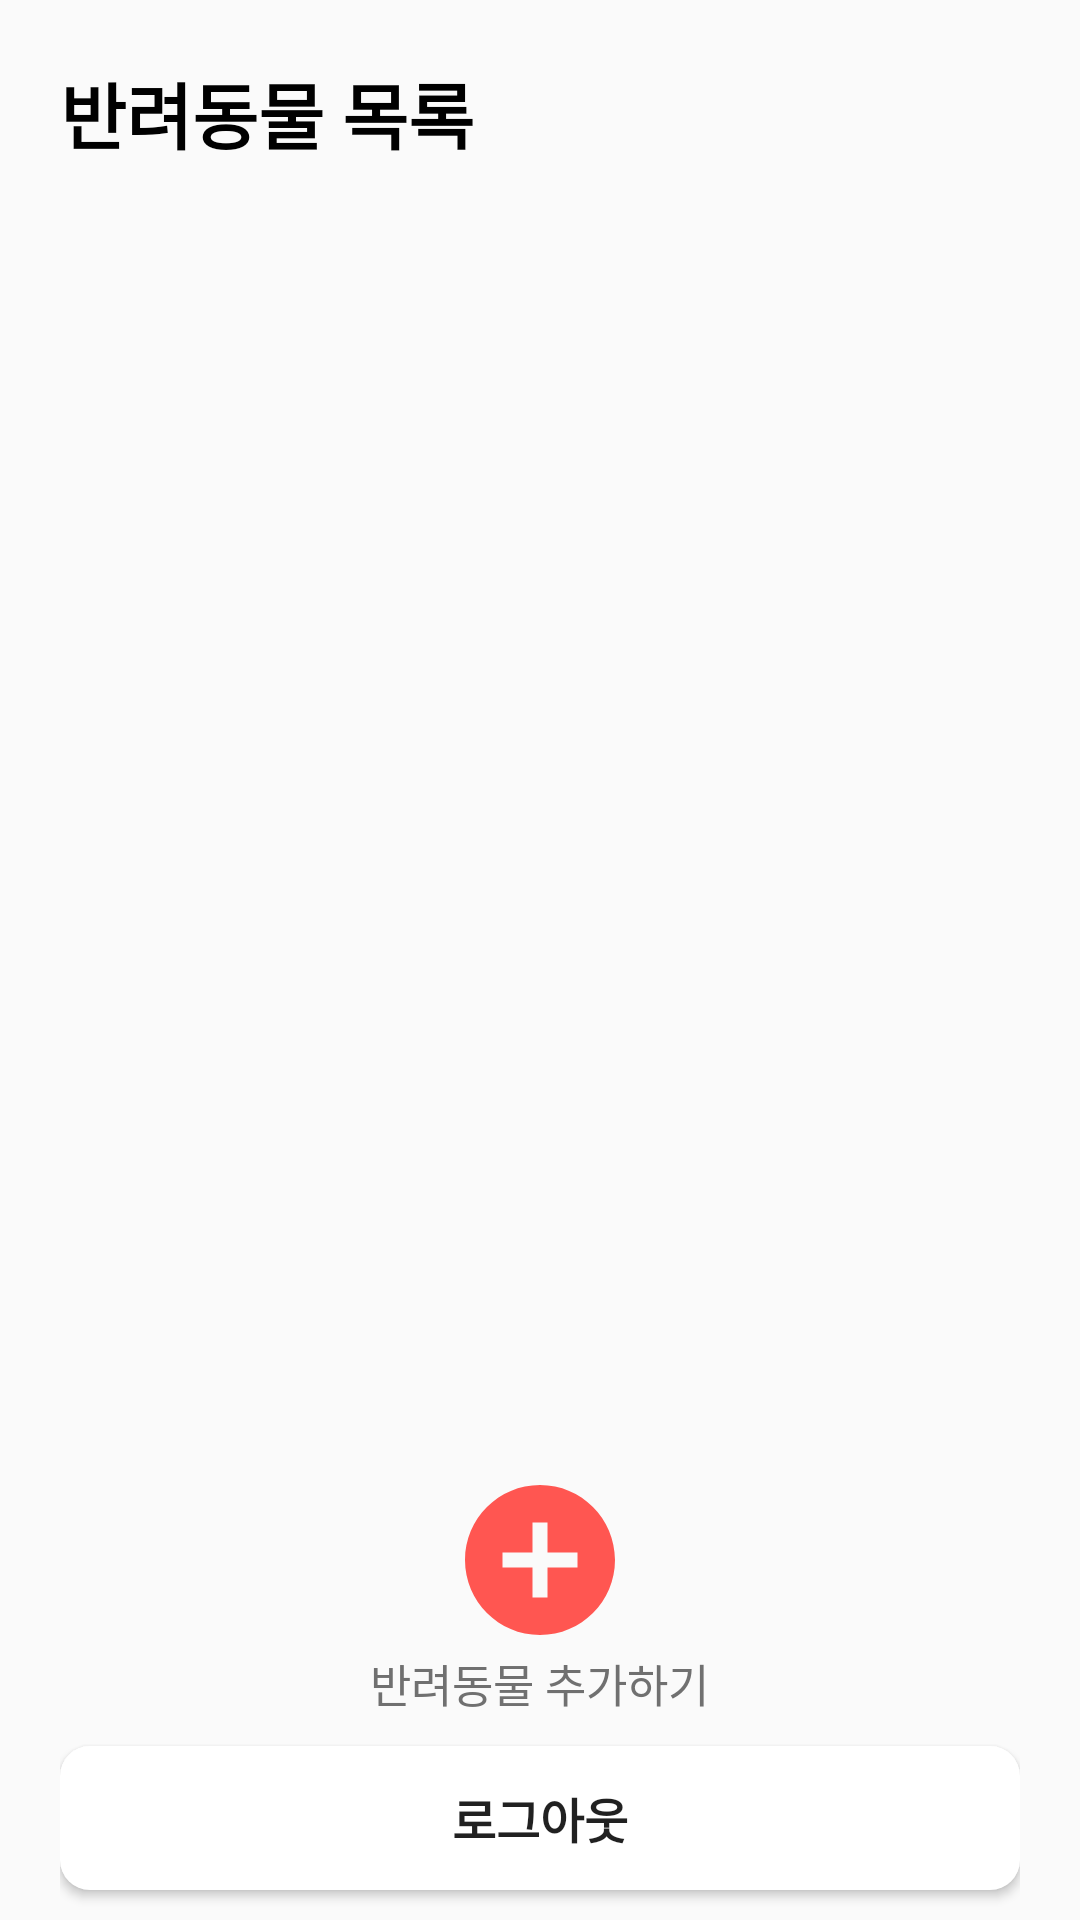

Screen size 1080 × 1920. Icon name, then its box in pixels as (x1, y1, x2, y2):
add circle: (465, 1485, 615, 1635)
